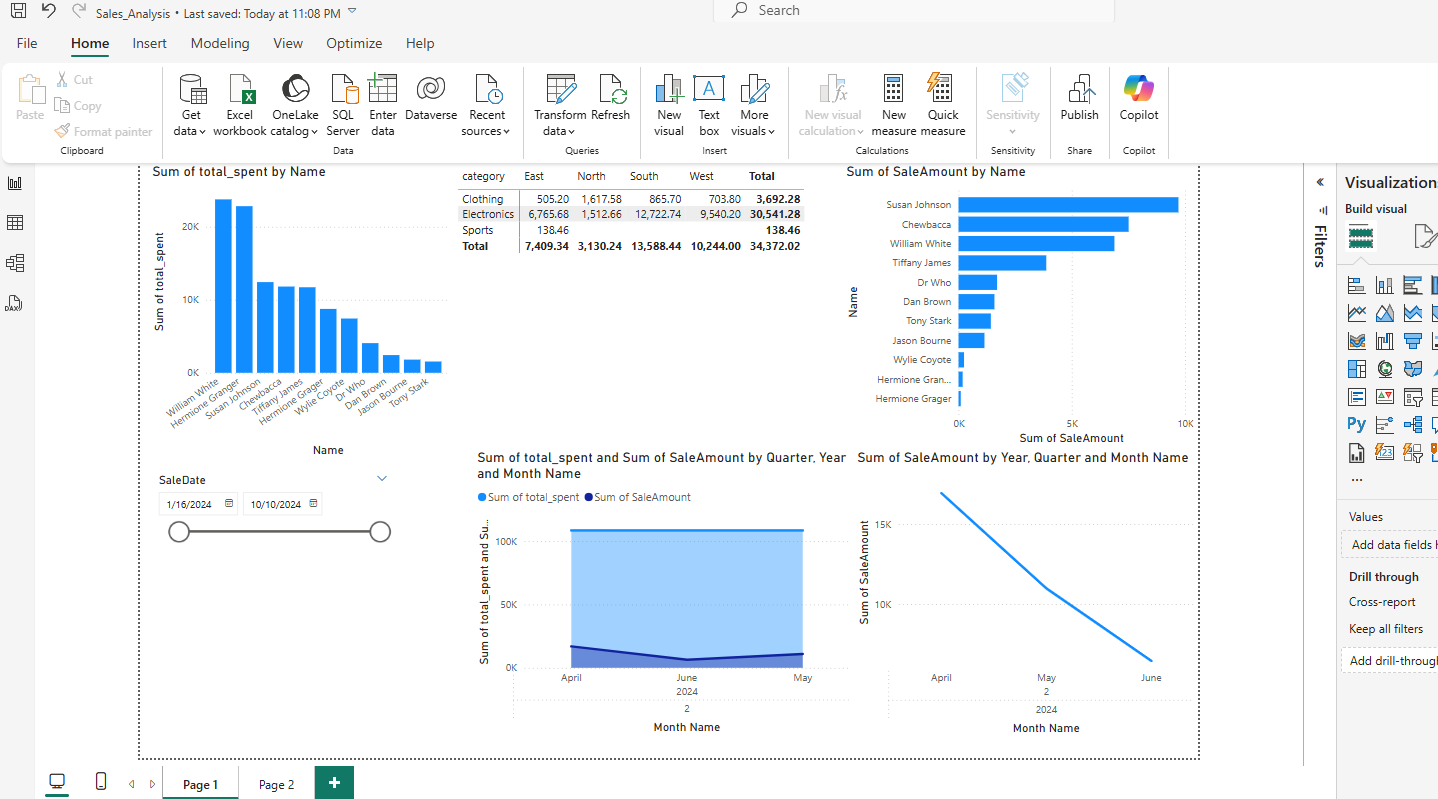

What the dashboard file says about the page in this screenshot:
{"tool":"powerbi","page":{"name":"Page 1","canvas":[1280,720],"ordinal":0},"visuals":[{"type":"clusteredColumnChart","fields":{"Y":["Sum(Top Customer.total_spent)"],"Category":["Top Customer.Name"]},"box":[9.7,0,370.6,359.9],"z":0},{"type":"slicer","fields":{"Values":["sale.SaleDate"]},"box":[10,370,302,350],"z":1000},{"type":"pivotTable","fields":{"Rows":["product.category"],"Columns":["customer.Region"],"Values":["Sum(sale.SaleAmount)"]},"box":[380.3,0,460.1,359.9],"z":2000},{"type":"areaChart","fields":{"Category":["sale.Quarter","sale.Year","sale.Month Name"],"Y":["Sum(Top Customer.total_spent)","Sum(sale.SaleAmount)"]},"box":[402.7,346.3,460.1,350.2],"z":3000},{"type":"clusteredBarChart","fields":{"Category":["customer.Name"],"Y":["Sum(sale.SaleAmount)"]},"box":[850,0,430,346],"z":3001},{"type":"lineChart","fields":{"Category":["sale.Year","sale.Quarter","sale.Month Name"],"Y":["Sum(sale.SaleAmount)"]},"box":[863,346,417,350],"z":3002}]}

Visuals, with their boxes on the page's 1280x720 design canvas (x1, y1, x2, y2). These are canvas units, not pixel positions in the 1438x799 screenshot, which may show the page scaled, cropped or inside an application window:
clusteredColumnChart - Sum(Top Customer.total_spent) x Top Customer.Name: Rect(10, 0, 380, 360)
slicer - sale.SaleDate: Rect(10, 370, 312, 720)
pivotTable - product.category x customer.Region: Rect(380, 0, 840, 360)
areaChart - sale.Quarter x sale.Year: Rect(403, 346, 863, 696)
clusteredBarChart - customer.Name x Sum(sale.SaleAmount): Rect(850, 0, 1280, 346)
lineChart - sale.Year x sale.Quarter: Rect(863, 346, 1280, 696)
